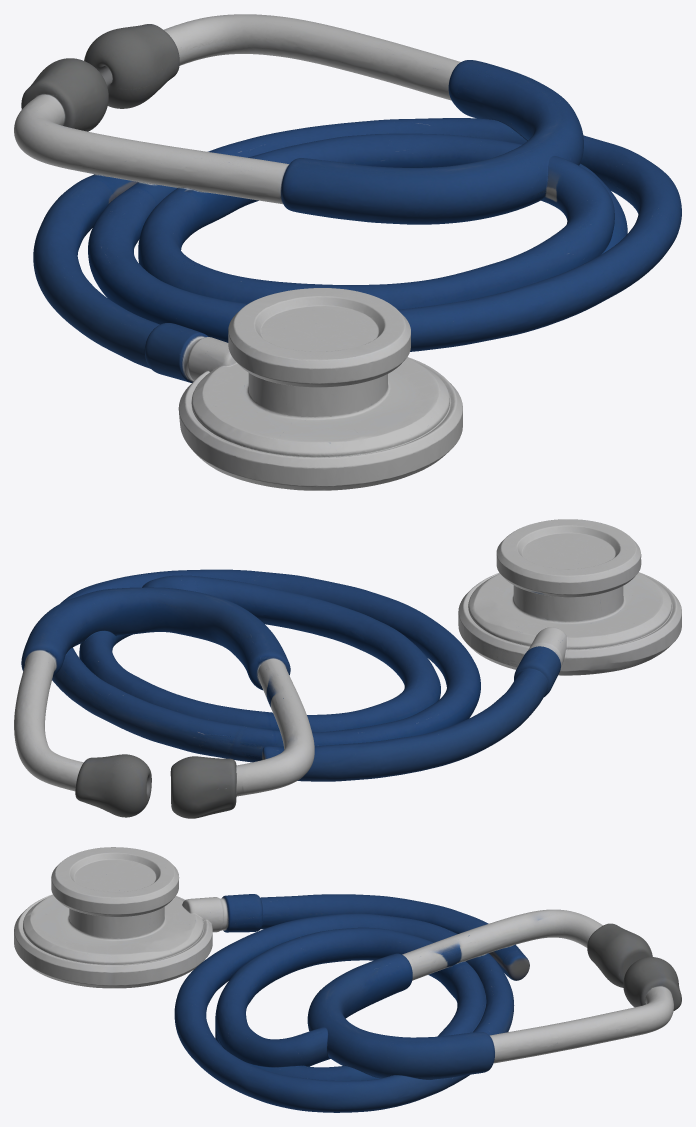
The model's file is Meshy_AI_Blue_Stethoscope_on_White_Background_20261029_texture.fbx.
3 renders of one model, top to bottom at view 1: azimuth 30°, elevation 25°; view 2: azimuth 150°, elevation 25°; view 3: azimuth 270°, elevation 25°, orthographic. The views are drawn at different scales.
Visible parts, largest first — view 1: Mesh_0; view 2: Mesh_0; view 3: Mesh_0.
Part boxes in pixels (left/top/right/bottom): Mesh_0: left=14, top=14, right=681, bottom=490; Mesh_0: left=14, top=519, right=681, bottom=818; Mesh_0: left=14, top=847, right=681, bottom=1112.
Bounding box in the file's own units: 143 × 24.26 × 190.
Materials: 1 (1 with a texture image).
